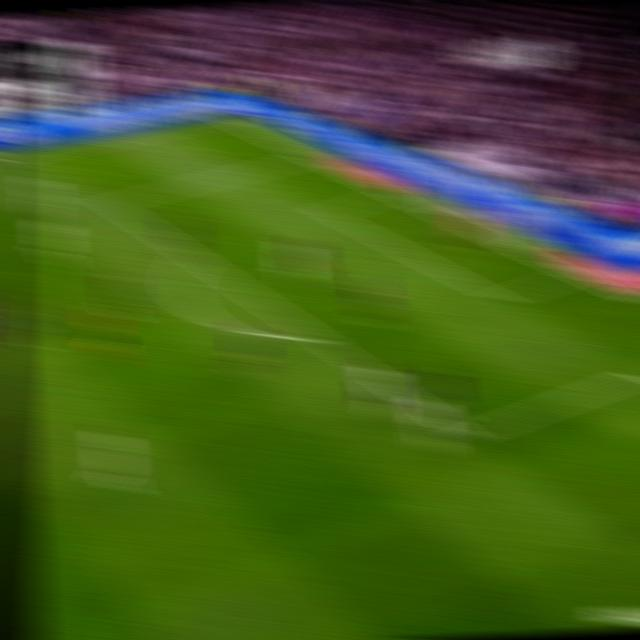bigarea_bottom_inner: (452, 421, 482, 451)
bigarea_top_inner: (314, 202, 342, 222)
bigarea_top_outter: (293, 147, 322, 164)
bottom_arc_area_intersection: (301, 323, 332, 349)
corner: (209, 110, 237, 126)
smallarea_bottom_inner: (486, 285, 514, 310)
top_arc_area_intersection: (180, 246, 209, 267)
